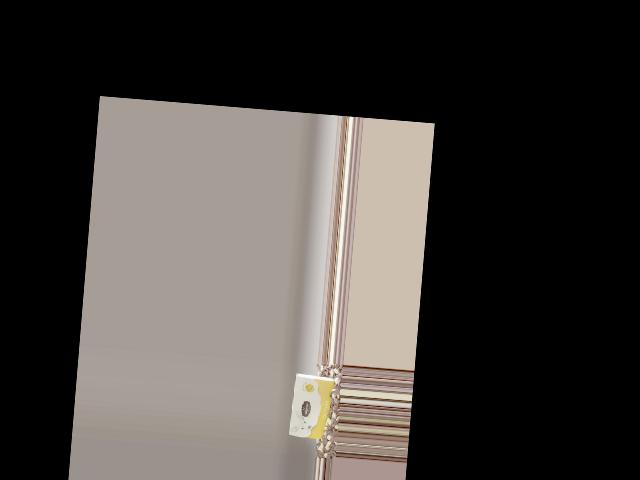chocolate: (286, 370, 337, 444)
